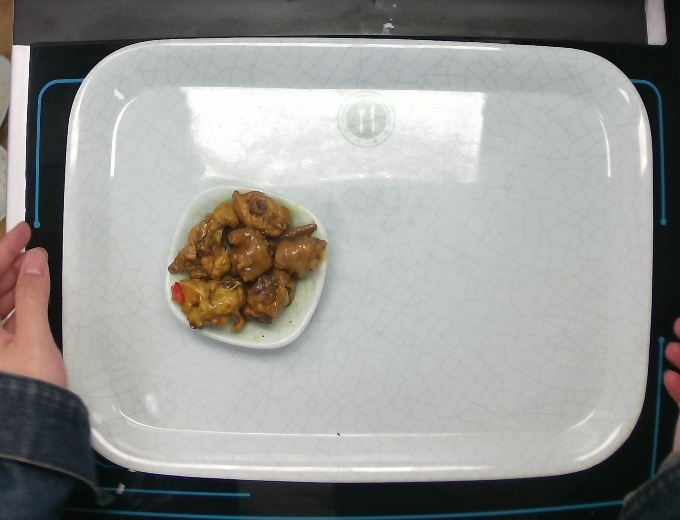JYsf-Si_Fang_Die: (163, 182, 330, 353)
